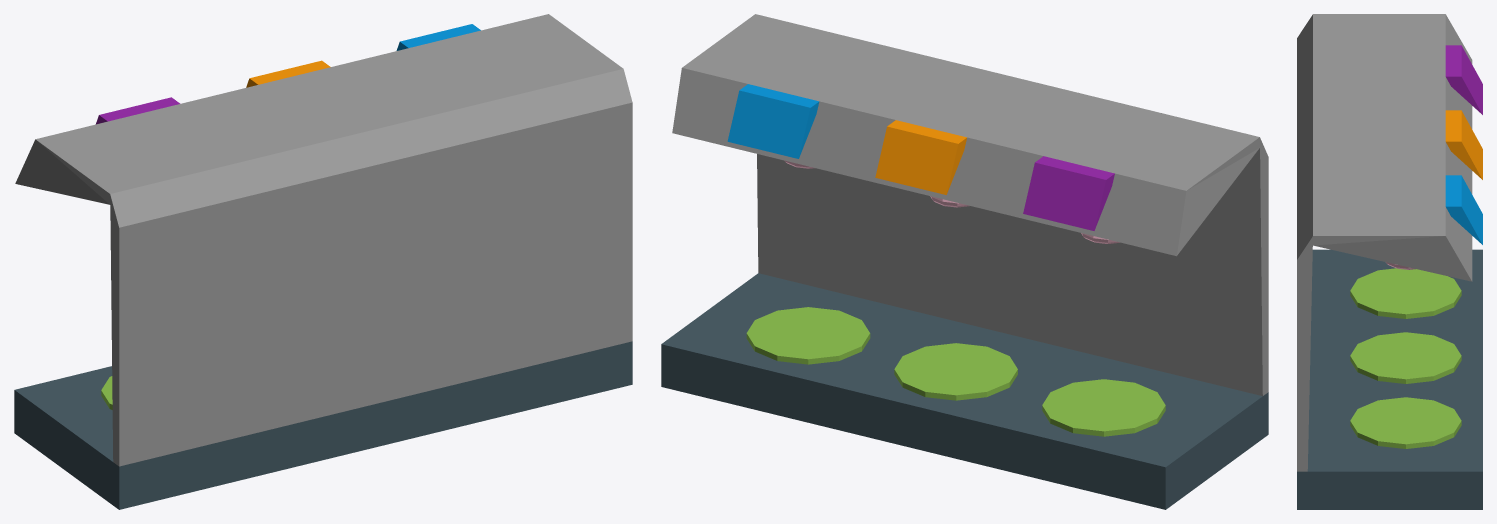
3 renders of one model, left to right at view 1: azimuth 30°, elevation 25°; view 2: azimuth 150°, elevation 25°; view 3: azimuth 270°, elevation 25°, orthographic. The views are drawn at different scales.
Visible parts, largest first — view 1: mesh_1138234482, mesh_372621265, mesh_509553979, mesh_3998111, mesh_1839662580, mesh_985968615; view 2: mesh_1138234482, mesh_372621265, mesh_509553979, mesh_536631065, mesh_534719747, mesh_338420945, mesh_985968615, mesh_1839662580, mesh_3998111; view 3: mesh_372621265, mesh_509553979, mesh_1138234482, mesh_338420945, mesh_534719747, mesh_536631065, mesh_3998111, mesh_985968615, mesh_1839662580.
Boxes of the visible parts, x1,y1,x2,y2 form: mesh_1138234482: (110, 69, 632, 466); mesh_372621265: (15, 14, 623, 204); mesh_509553979: (14, 341, 632, 509); mesh_3998111: (396, 24, 480, 50); mesh_1839662580: (95, 97, 180, 124); mesh_985968615: (246, 60, 330, 87); mesh_1138234482: (757, 138, 1268, 396); mesh_372621265: (672, 14, 1259, 256); mesh_509553979: (661, 273, 1268, 509); mesh_536631065: (1042, 379, 1165, 436); mesh_534719747: (746, 307, 870, 364); mesh_338420945: (894, 343, 1017, 400); mesh_985968615: (875, 120, 966, 194); mesh_1839662580: (1023, 156, 1114, 230); mesh_3998111: (727, 84, 819, 158); mesh_372621265: (1313, 14, 1472, 281); mesh_509553979: (1297, 249, 1482, 509); mesh_1138234482: (1297, 14, 1312, 471); mesh_338420945: (1350, 332, 1461, 383); mesh_534719747: (1350, 397, 1461, 448); mesh_536631065: (1350, 268, 1461, 318); mesh_3998111: (1445, 175, 1482, 244); mesh_985968615: (1445, 110, 1482, 179); mesh_1839662580: (1445, 45, 1482, 114).
Size of the model in its own units: 100 by 57 by 35.
